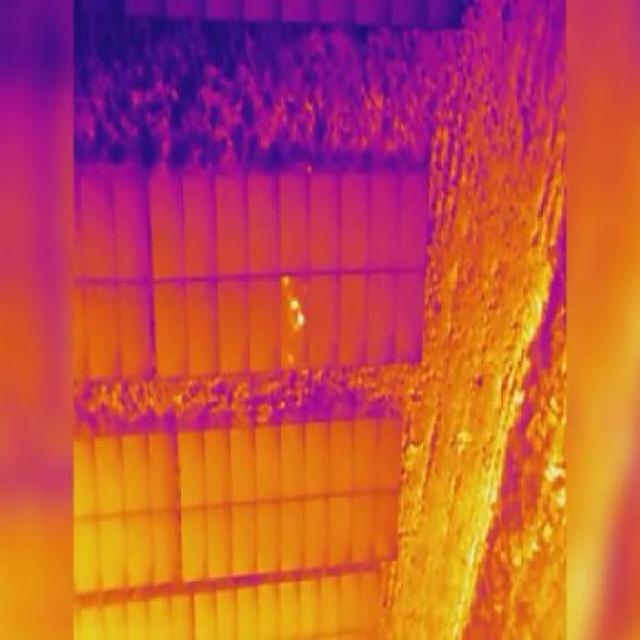hotspot: (296, 311, 306, 327), (288, 293, 298, 305), (280, 272, 288, 285)
